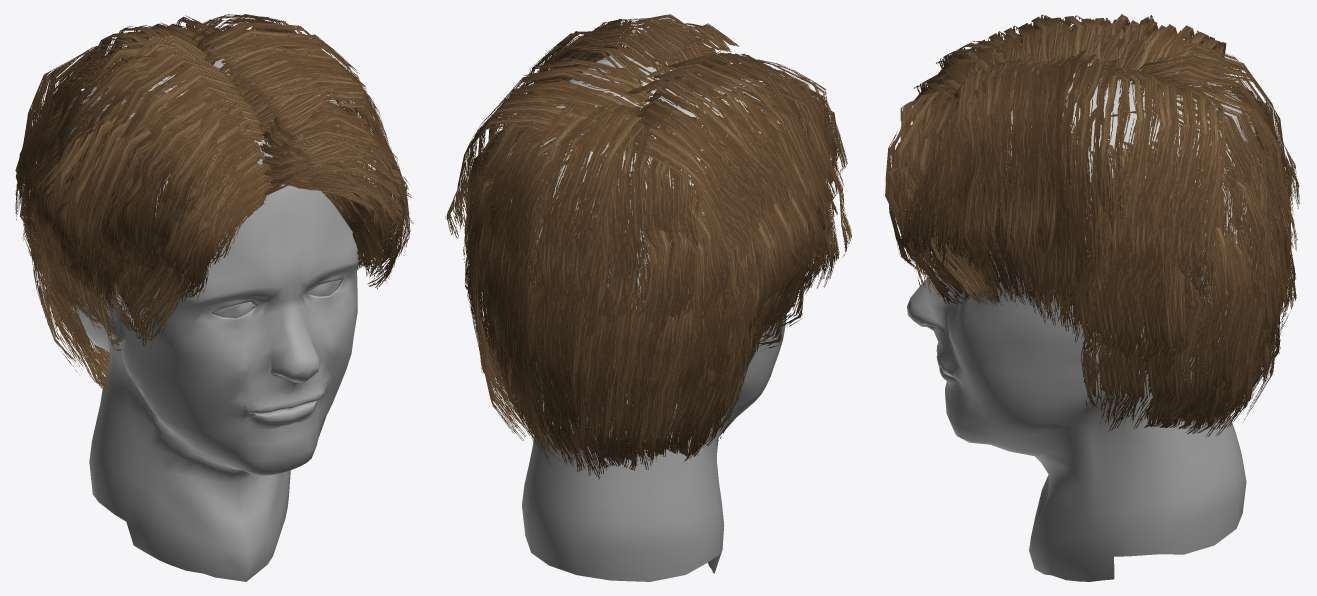
Rendered from cabeza_scalp_pelocards_02.fbx.
3 renders of one model, left to right at view 1: azimuth 30°, elevation 25°; view 2: azimuth 150°, elevation 25°; view 3: azimuth 270°, elevation 25°, orthographic.
Visible parts, largest first — view 1: polySurface1002, polySurface767, polySurface540; view 2: polySurface1002, polySurface767, polySurface540; view 3: polySurface1002, polySurface767, polySurface540.
Boxes of the visible parts, x1,y1,x2,y2 form: polySurface1002: (15, 14, 413, 404); polySurface767: (87, 183, 360, 581); polySurface540: (54, 58, 361, 351); polySurface1002: (445, 14, 851, 479); polySurface767: (522, 294, 789, 581); polySurface540: (506, 50, 781, 443); polySurface1002: (885, 14, 1299, 436); polySurface767: (907, 194, 1246, 581); polySurface540: (993, 60, 1261, 395).
Size of the model in its own units: 0.3475 by 0.542 by 0.3903.
